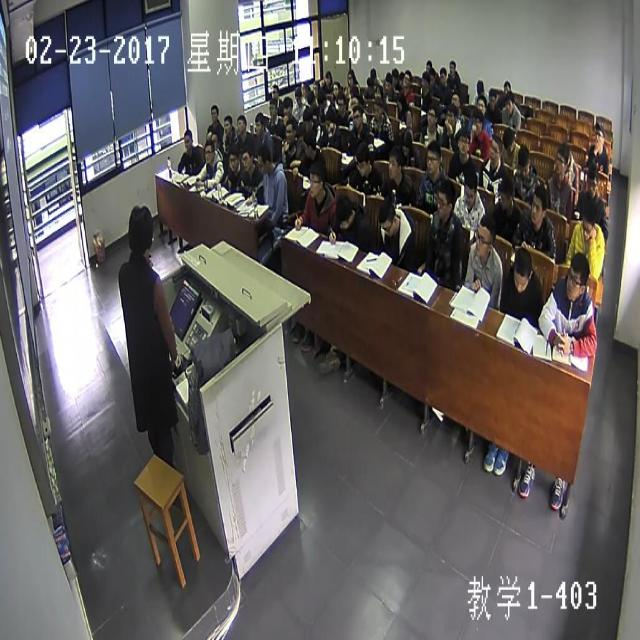person: (125, 197, 154, 260), (564, 250, 591, 301), (508, 247, 532, 294), (474, 212, 494, 259), (436, 180, 456, 220), (332, 194, 354, 230), (380, 194, 398, 236), (496, 173, 514, 212), (308, 159, 325, 200), (578, 199, 595, 239), (462, 165, 477, 209), (387, 145, 404, 183), (530, 187, 546, 226), (424, 138, 440, 174), (517, 140, 531, 177), (356, 142, 372, 174), (256, 142, 271, 174), (487, 133, 503, 163), (500, 123, 515, 153), (240, 146, 255, 173), (558, 138, 572, 166), (471, 109, 484, 138), (283, 120, 297, 146), (456, 125, 469, 153), (400, 128, 412, 158), (586, 166, 598, 196), (592, 120, 604, 150), (423, 102, 436, 128), (182, 125, 194, 151), (202, 140, 214, 165), (304, 130, 316, 155), (554, 149, 566, 174), (253, 110, 264, 136), (221, 111, 233, 134), (302, 104, 314, 127), (324, 109, 336, 132), (372, 97, 383, 121), (228, 145, 238, 171), (236, 113, 247, 136), (295, 123, 306, 146), (280, 93, 292, 114), (444, 105, 456, 126), (346, 63, 356, 87), (335, 90, 345, 113), (488, 84, 498, 107), (209, 100, 219, 122), (373, 78, 383, 100), (268, 98, 278, 119), (504, 93, 514, 114), (402, 64, 411, 87), (299, 78, 309, 98), (353, 108, 363, 128), (394, 90, 404, 110), (419, 70, 429, 90), (447, 56, 457, 76), (451, 90, 461, 110), (382, 72, 393, 90), (476, 93, 485, 114), (503, 77, 512, 98), (331, 75, 339, 98), (208, 128, 218, 146), (348, 86, 358, 104), (269, 82, 278, 100), (312, 78, 321, 96), (318, 90, 326, 110), (365, 72, 373, 92), (294, 86, 302, 105), (396, 67, 404, 86), (390, 64, 398, 82), (429, 66, 437, 84), (477, 78, 485, 96), (369, 64, 376, 82), (425, 57, 432, 73), (439, 66, 446, 81), (324, 68, 329, 86)
